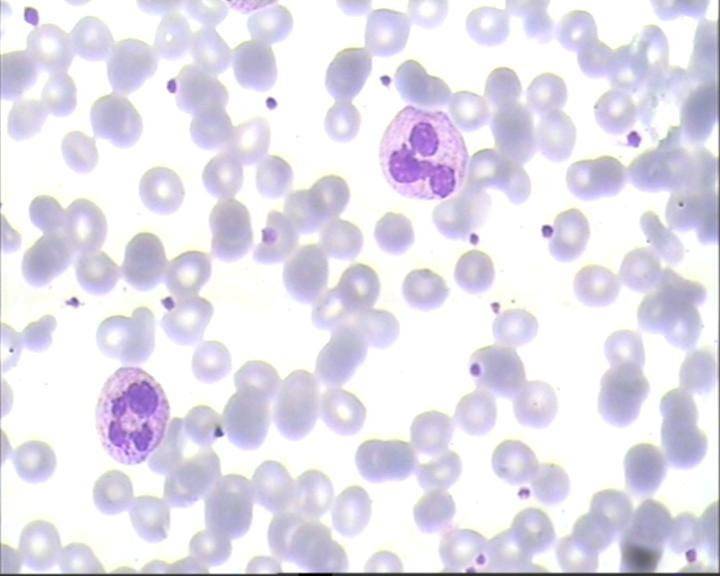neut: (372, 100, 470, 203), (86, 360, 175, 469)
